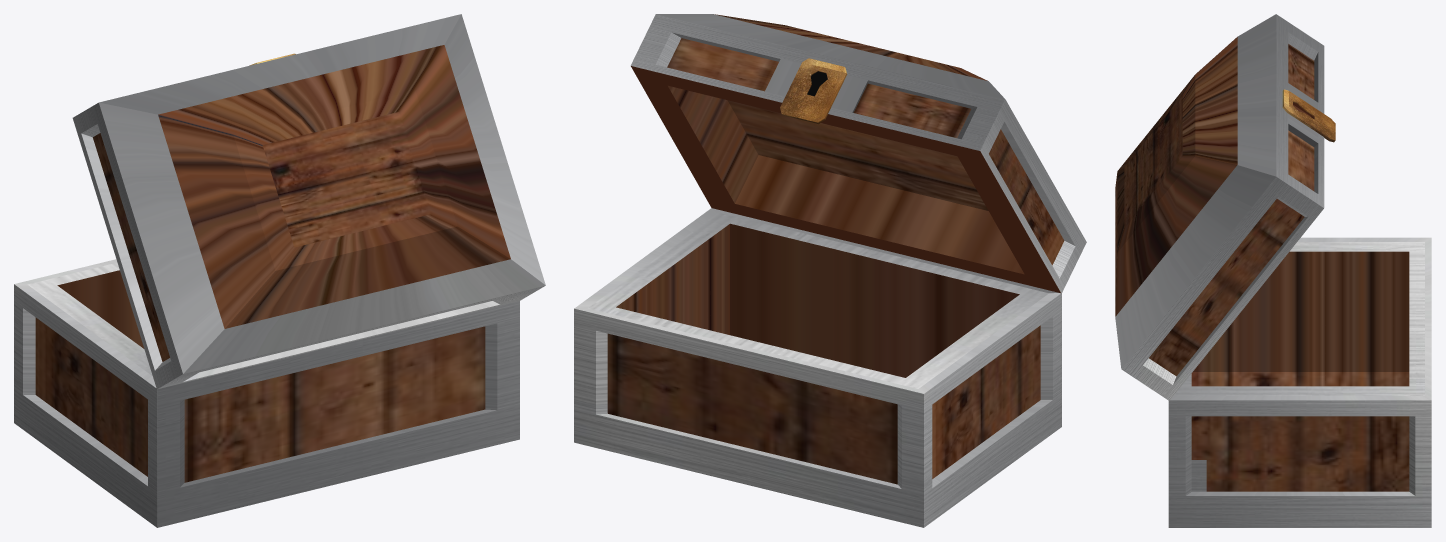
The model's file is ChestNiJashWithAnim 1.fbx.
3 renders of one model, left to right at view 1: azimuth 30°, elevation 25°; view 2: azimuth 150°, elevation 25°; view 3: azimuth 270°, elevation 25°, orthographic. The views are drawn at different scales.
Parts seen in each view (by area): view 1: Cube.004, Cube.003; view 2: Cube.003, Cube.004; view 3: Cube.003, Cube.004.
Part boxes in pixels (left/top/right/bottom): Cube.004: left=72, top=14, right=545, bottom=389; Cube.003: left=14, top=259, right=519, bottom=527; Cube.003: left=574, top=208, right=1061, bottom=527; Cube.004: left=630, top=14, right=1086, bottom=293; Cube.003: left=1168, top=237, right=1431, bottom=527; Cube.004: left=1115, top=14, right=1335, bottom=400.
Bounding box in the file's own units: 581 × 585 × 478.
